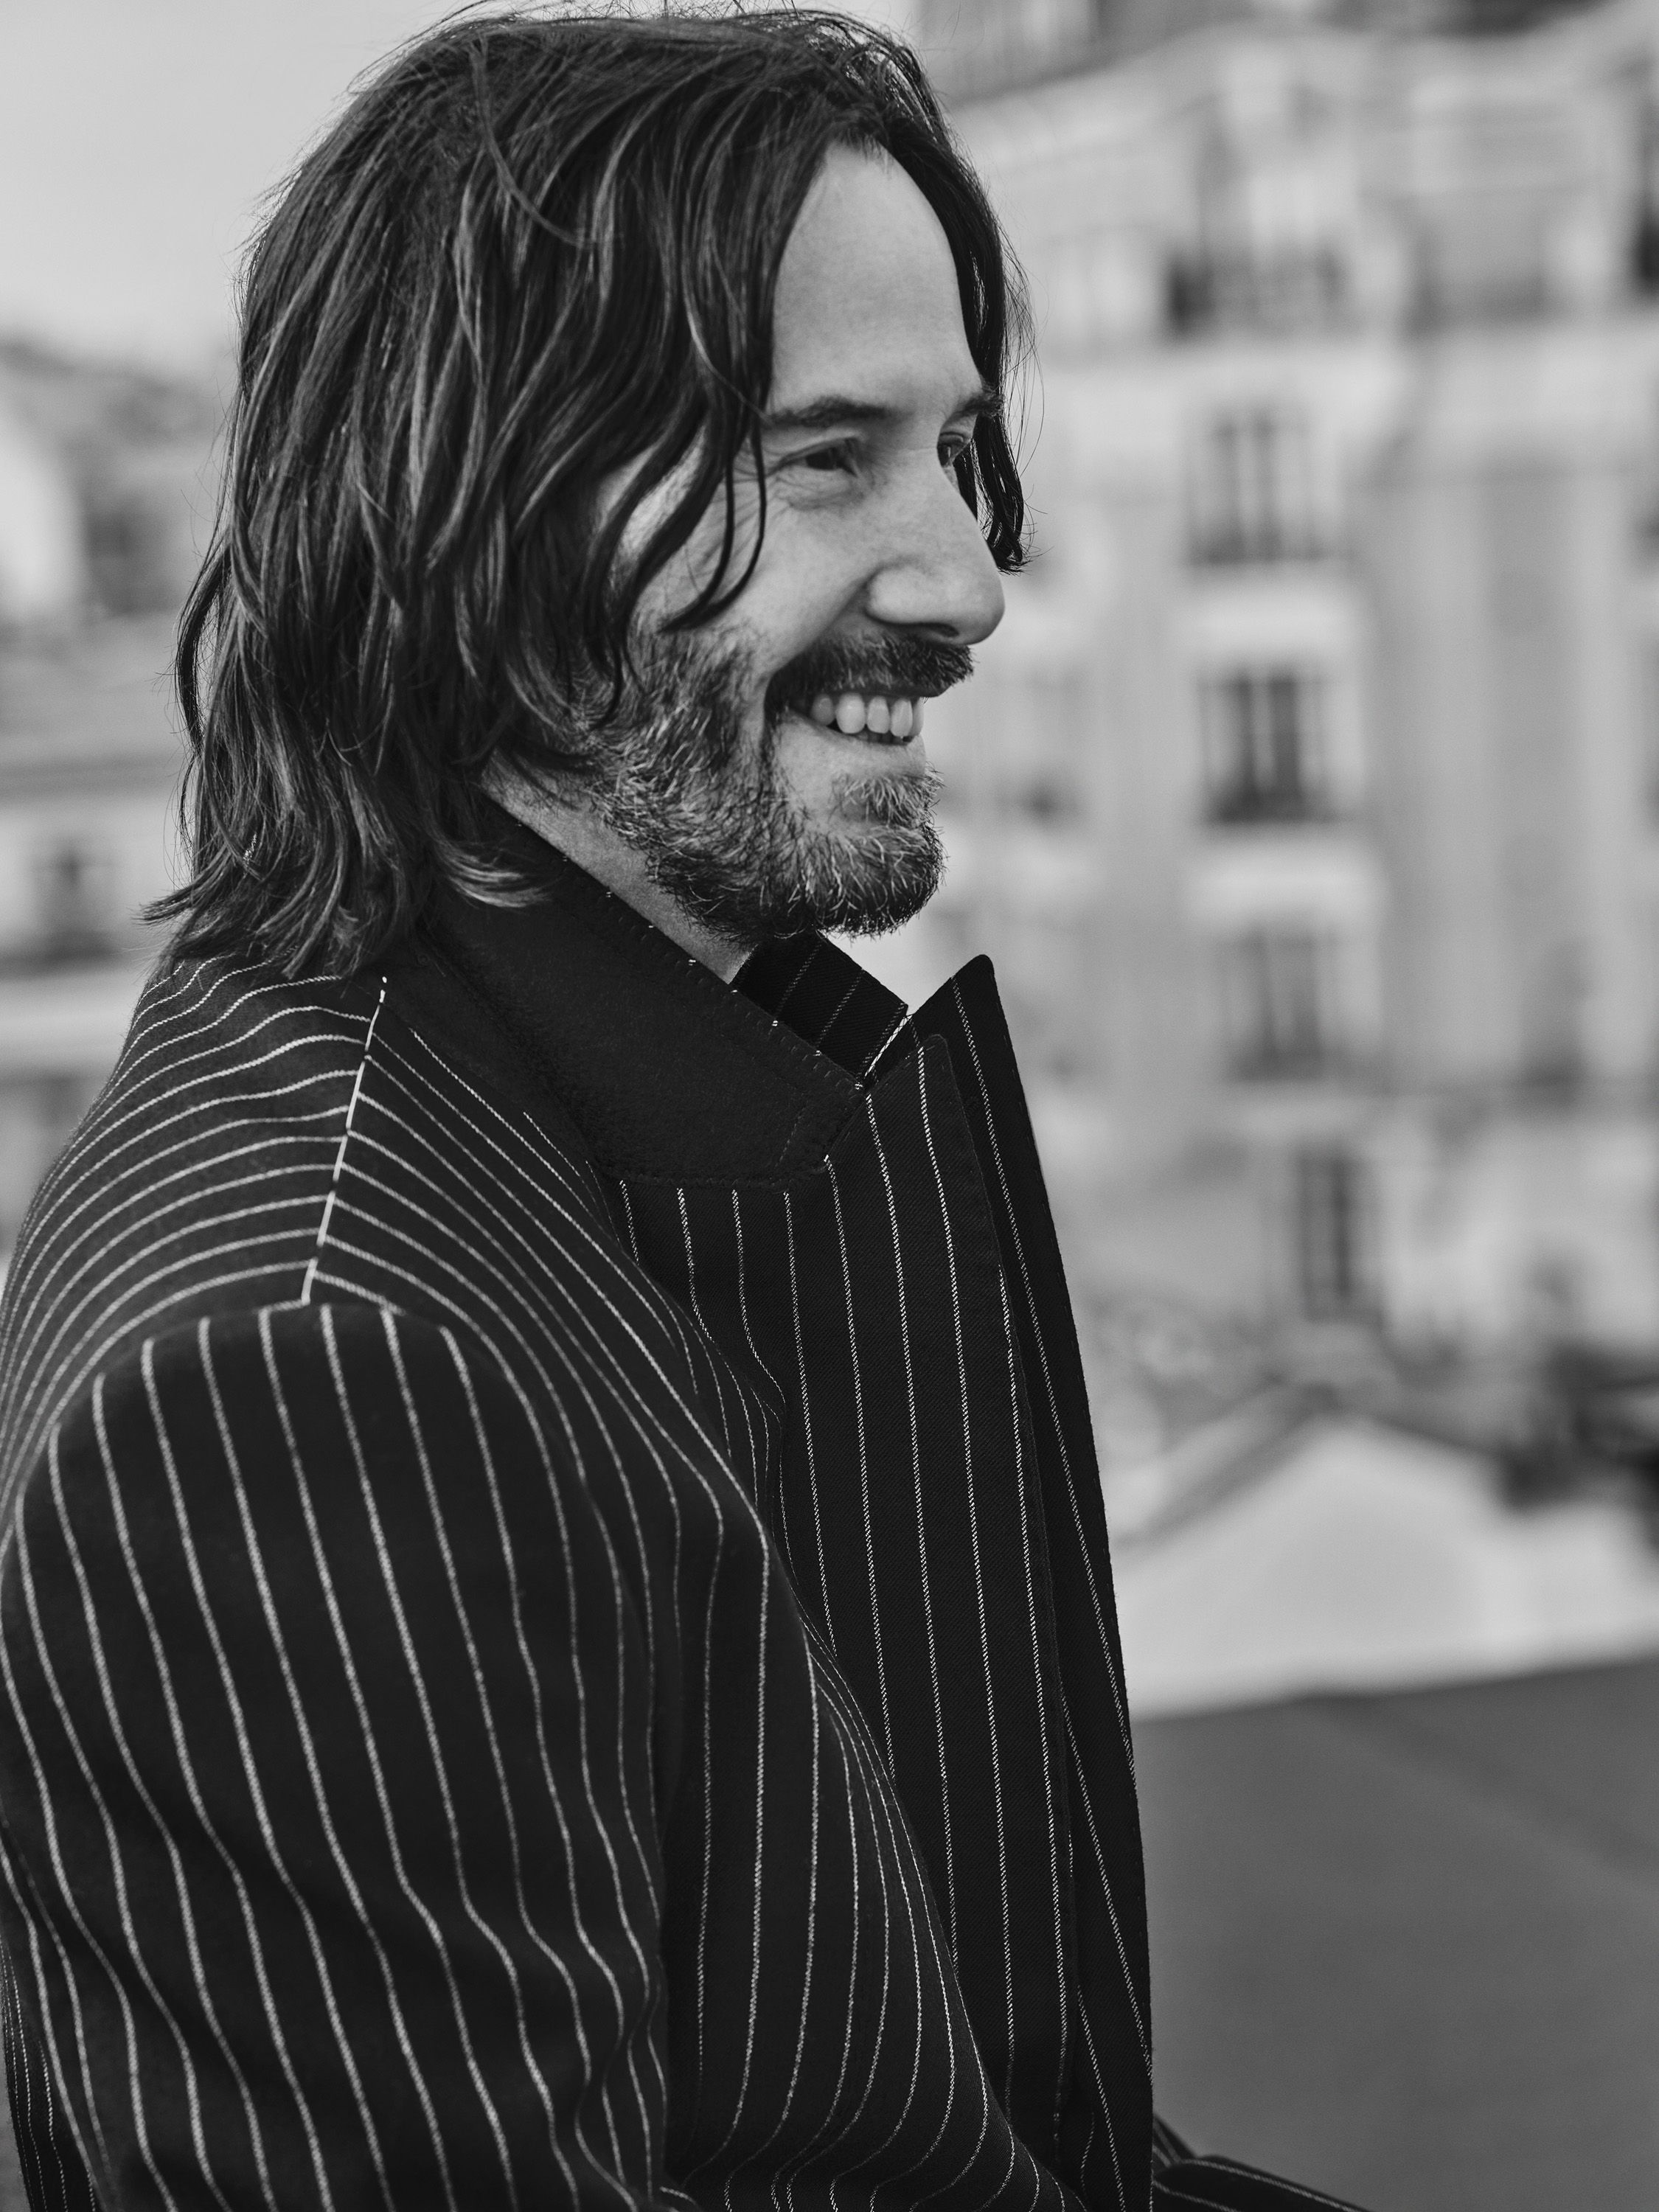NoMask: (686, 350, 1005, 923)
